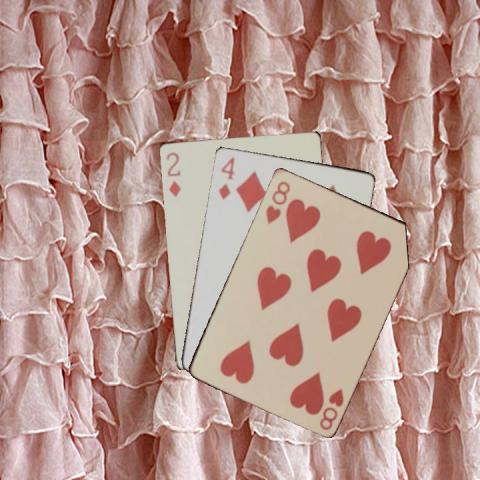2d: (163, 149, 182, 198)
4d: (215, 153, 236, 201)
8h: (263, 178, 292, 226), (316, 385, 345, 431)
